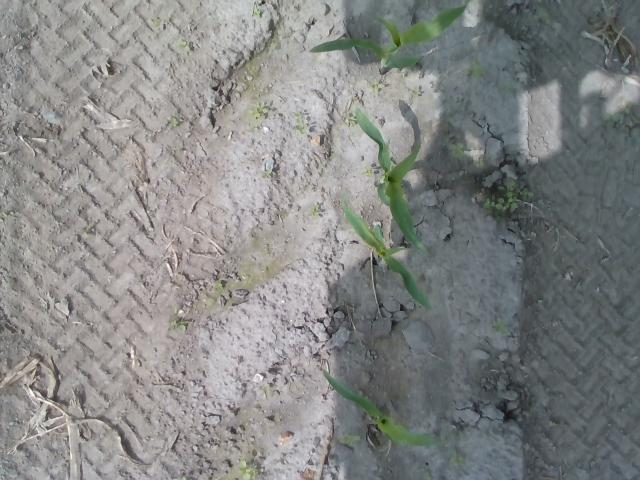Maize: (354, 101, 450, 249), (306, 6, 469, 76), (320, 368, 446, 449), (342, 207, 433, 310)
Weeds: (484, 186, 536, 212), (606, 104, 636, 124), (236, 459, 258, 480), (338, 432, 362, 449), (466, 60, 488, 78), (294, 109, 308, 137), (494, 319, 509, 336), (344, 110, 358, 128), (170, 318, 188, 332), (449, 142, 464, 158), (248, 106, 268, 118), (451, 451, 467, 466), (368, 79, 383, 94), (177, 38, 191, 52), (164, 116, 179, 126), (361, 166, 373, 178), (409, 86, 422, 96), (471, 158, 484, 167), (311, 206, 322, 216), (252, 8, 262, 18), (214, 278, 224, 288), (264, 171, 272, 177)
